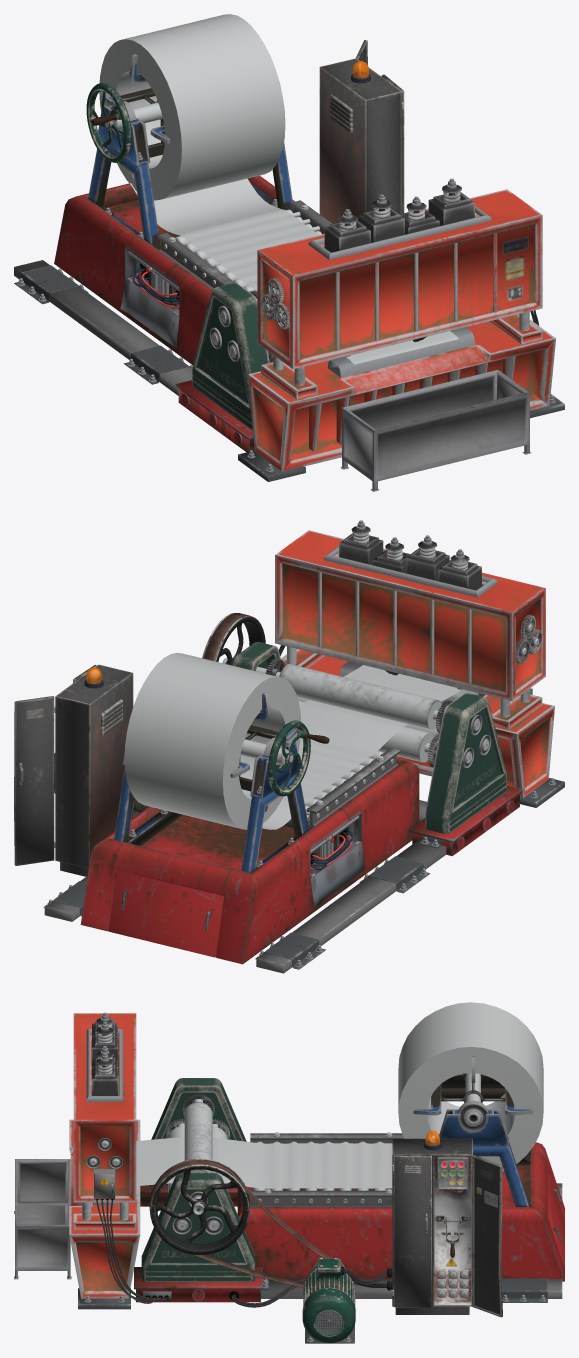
The model's file is generator.glb.
The picture shows the model from 3 angles, top to bottom: view 1: azimuth 30°, elevation 25°; view 2: azimuth 150°, elevation 25°; view 3: azimuth 270°, elevation 25°; orthographic projection. The views are drawn at different scales.
Visible parts, largest first — view 1: sasi_low, kotuc_low; view 2: sasi_low, kotuc_low, Kladka_valec_velka_low; view 3: sasi_low, kotuc_low, Kladka_valec_velka_low.
Part boxes in pixels (x1,y1,x2,y2): sasi_low: (14,40,564,491); kotuc_low: (99,14,285,200); sasi_low: (14,520,564,973); kotuc_low: (124,653,300,829); Kladka_valec_velka_low: (202,613,265,665); sasi_low: (14,1012,564,1343); kotuc_low: (398,1002,543,1171); Kladka_valec_velka_low: (150,1158,249,1254).
Bounding box in the file's own units: 410 × 252 × 568.
2 materials, 2 textured.
